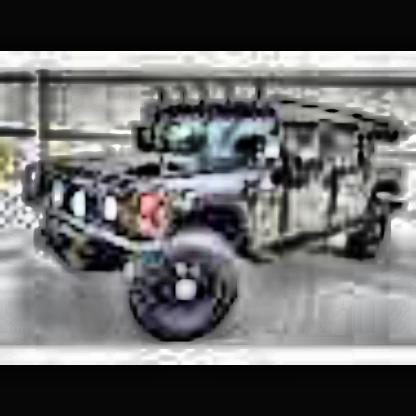AM General Hummer SUV 2000: (28, 82, 416, 351)
